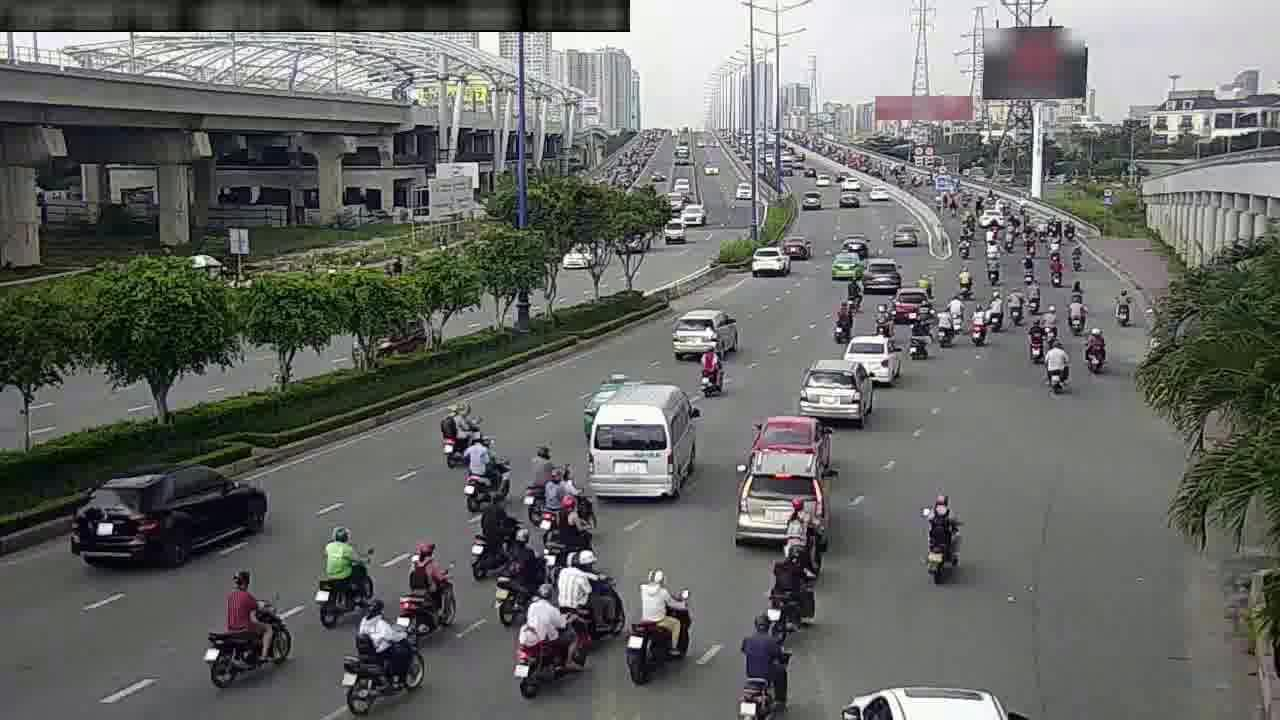14: (582, 382, 691, 504)
container: (80, 451, 268, 561), (745, 403, 826, 485), (797, 358, 869, 425), (668, 302, 735, 360), (840, 326, 892, 379), (859, 254, 905, 294), (884, 285, 926, 323), (776, 225, 814, 261), (825, 246, 863, 281), (748, 245, 790, 274)
motorbike: (201, 565, 288, 684), (338, 600, 429, 707), (514, 574, 589, 697), (621, 554, 694, 680), (731, 602, 796, 709), (310, 523, 379, 622), (394, 536, 459, 637), (556, 542, 616, 650), (915, 488, 967, 584), (768, 538, 821, 630), (490, 535, 539, 631), (549, 484, 597, 564), (464, 492, 508, 576), (459, 430, 507, 500), (435, 402, 475, 468), (519, 460, 553, 527), (693, 342, 729, 400), (1039, 337, 1074, 392), (1077, 321, 1112, 373), (903, 312, 933, 362), (826, 299, 857, 347), (1107, 283, 1140, 328), (932, 301, 959, 348), (963, 303, 990, 349), (1062, 293, 1089, 335), (1038, 303, 1064, 344), (1025, 320, 1049, 363), (982, 292, 1007, 333), (950, 259, 977, 296), (1003, 286, 1027, 325), (1064, 267, 1089, 300), (841, 275, 863, 312), (1021, 279, 1044, 314), (872, 305, 889, 342), (874, 293, 887, 328), (888, 293, 901, 328)
